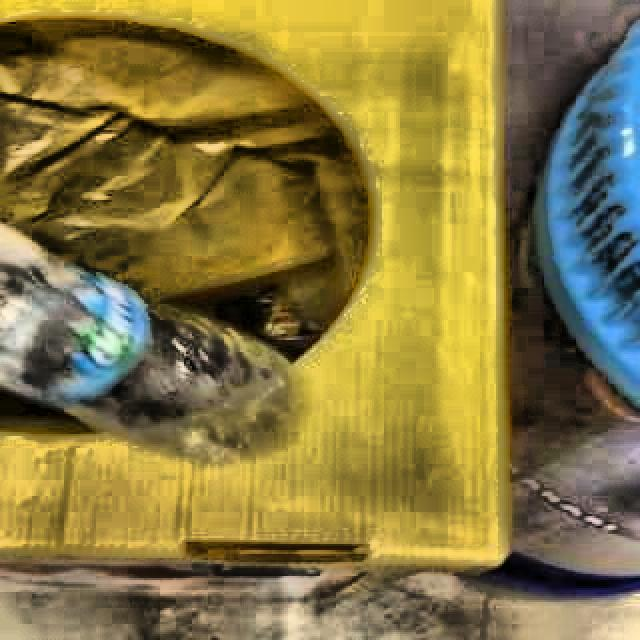plastic: (0, 225, 285, 460)
